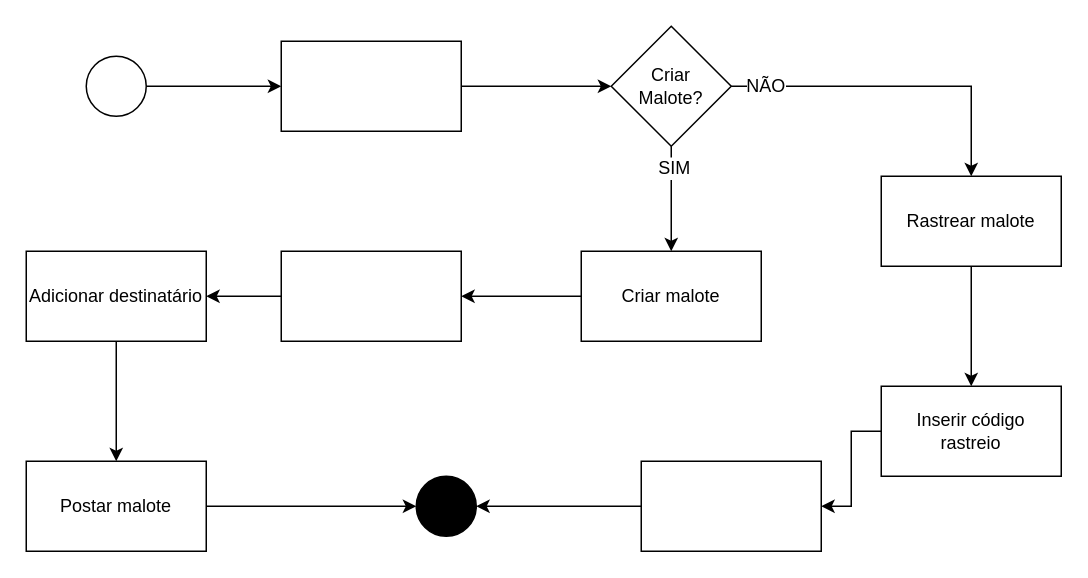
The diagram is 1088 pixels wide and 578 high, and some of its shapes have lost their labels. The centre of each missing label's shape, as x and y in pixels:
"Cadastrar produto" goes at point 370,295.
"Cadastrar Usuário" goes at point 370,85.
"Visualizar tramite" goes at point 730,505.
